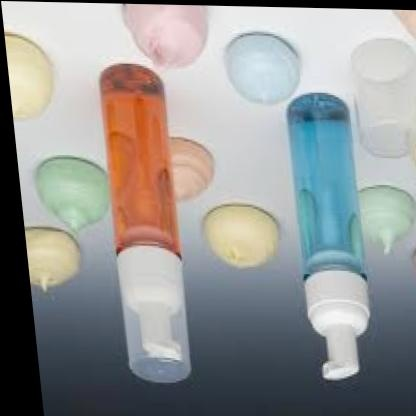trash: (100, 64, 190, 382), (288, 93, 369, 379)
